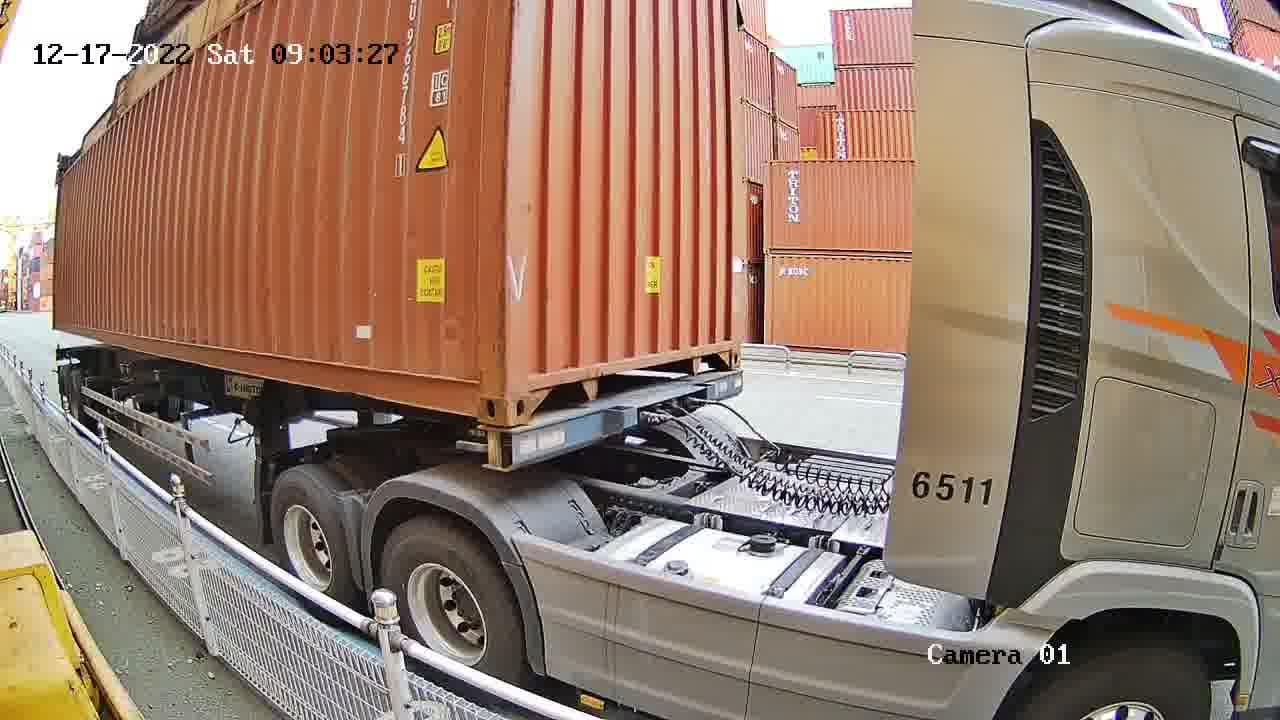Chassis: (514, 366, 745, 471)
Cone: (479, 430, 515, 470)
Container: (505, 323, 745, 429)
Hole_L: (507, 357, 553, 429)
Hole_R: (455, 358, 511, 429), (716, 322, 742, 365)
Tire: (372, 527, 525, 681), (273, 474, 349, 600)
